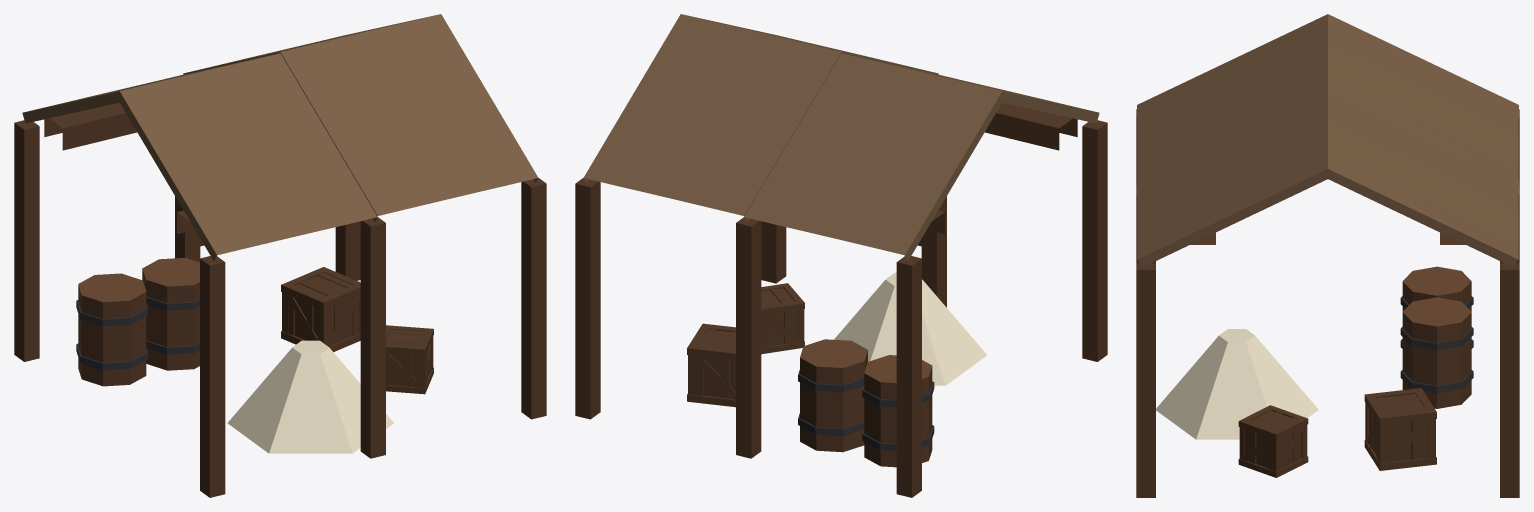
The model's file is rag_shed.obj.
The picture shows the model from 3 angles, left to right: view 1: azimuth 30°, elevation 25°; view 2: azimuth 150°, elevation 25°; view 3: azimuth 270°, elevation 25°; orthographic projection. The views are drawn at different scales.
Size of the model in its own units: 4.19 by 3.96 by 4.22.
